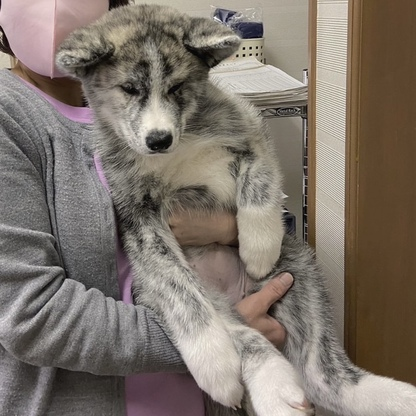akita: (51, 2, 416, 415)
